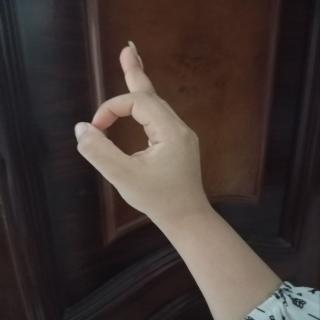Space: (69, 35, 212, 228)
